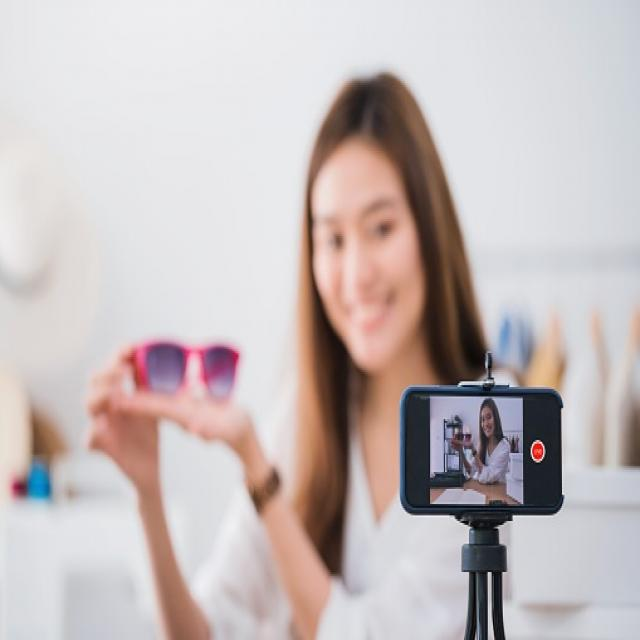device: (397, 378, 567, 517)
